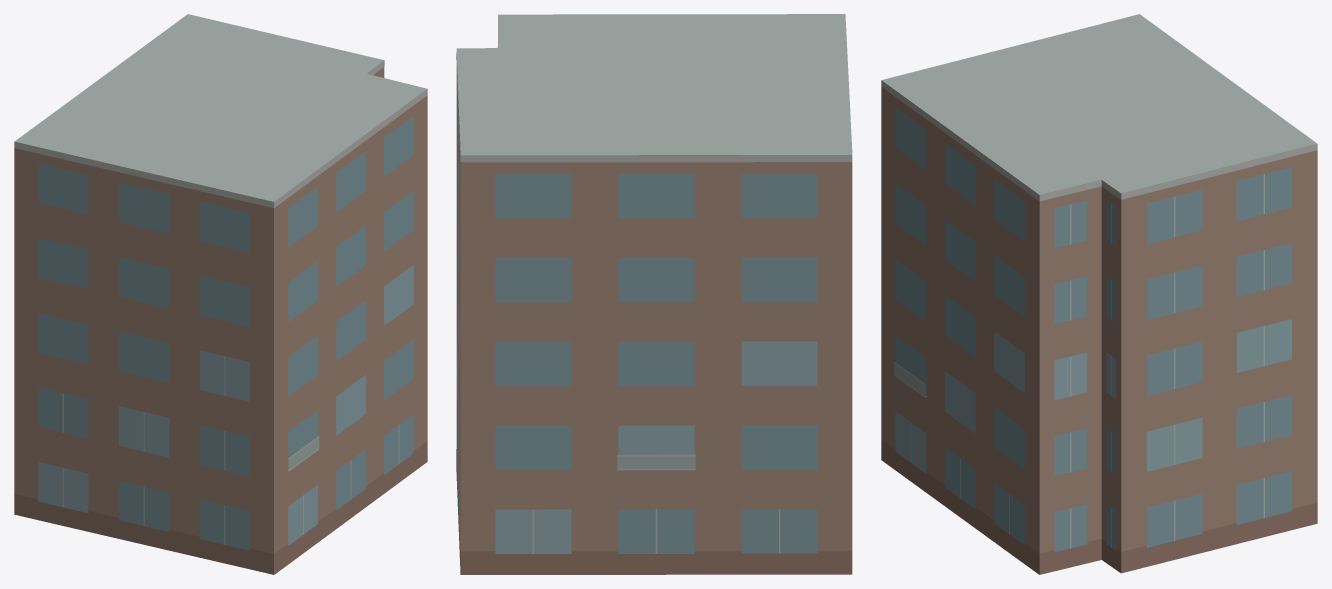
Rendered from survey-upis-32836492.glb.
3 renders of one model, left to right at view 1: azimuth 30°, elevation 25°; view 2: azimuth 150°, elevation 25°; view 3: azimuth 270°, elevation 25°, orthographic. The views are drawn at different scales.
Parts seen in each view (by area): view 1: survey-upis-32836492.tmp; view 2: survey-upis-32836492.tmp; view 3: survey-upis-32836492.tmp.
Part boxes in pixels (box(x1,y1,x2,y2)): survey-upis-32836492.tmp: box(14, 14, 427, 574); survey-upis-32836492.tmp: box(456, 14, 852, 574); survey-upis-32836492.tmp: box(881, 14, 1317, 574).
Size of the model in its own units: 14.68 by 14.36 by 14.95.
